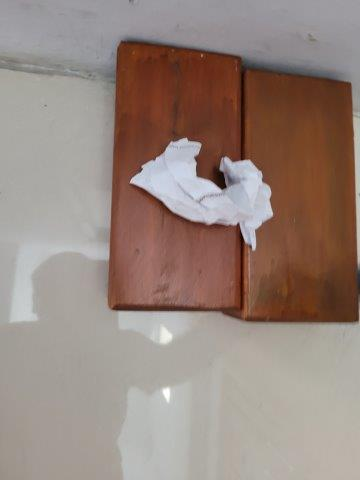kertas: (127, 135, 278, 247)
